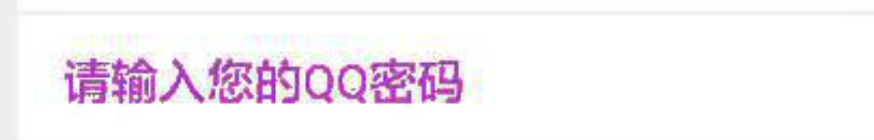EditText: (1, 1, 873, 139)
